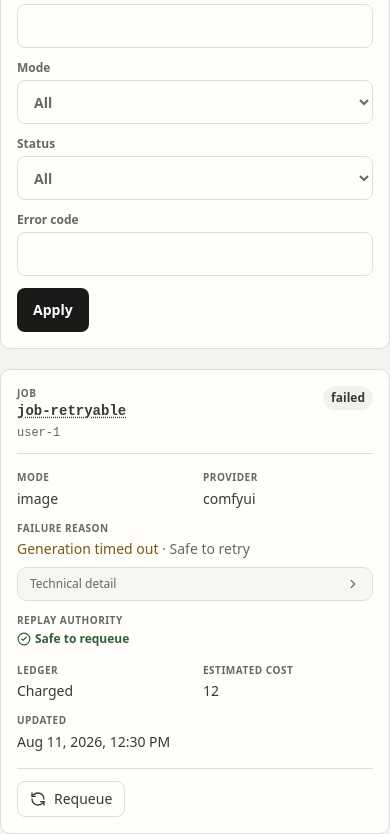
Test: DeadLetterWorkspace retry authority › labels the quote as an estimate and does not promise a new charge for operator retry
(page scrolled)
Click the button "Requeue" at (71,799), box [17,781,125,817]
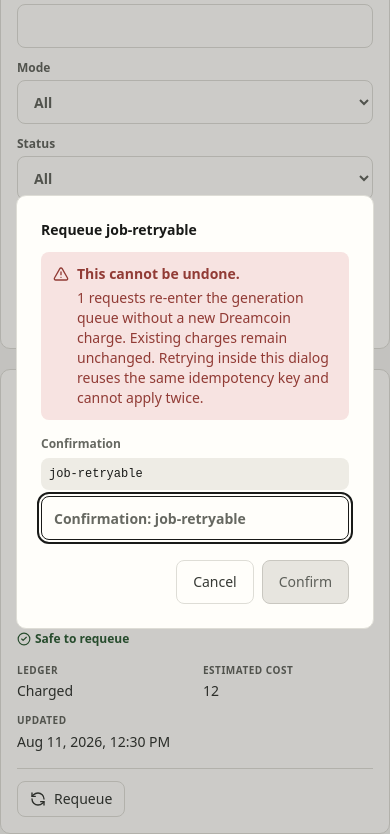
expect the dialog shows "without a new Dreamcoin charge": met, box [77,288,329,407]
expect the dialog shows "Existing charges remain unchanged": met, box [77,288,329,407]
